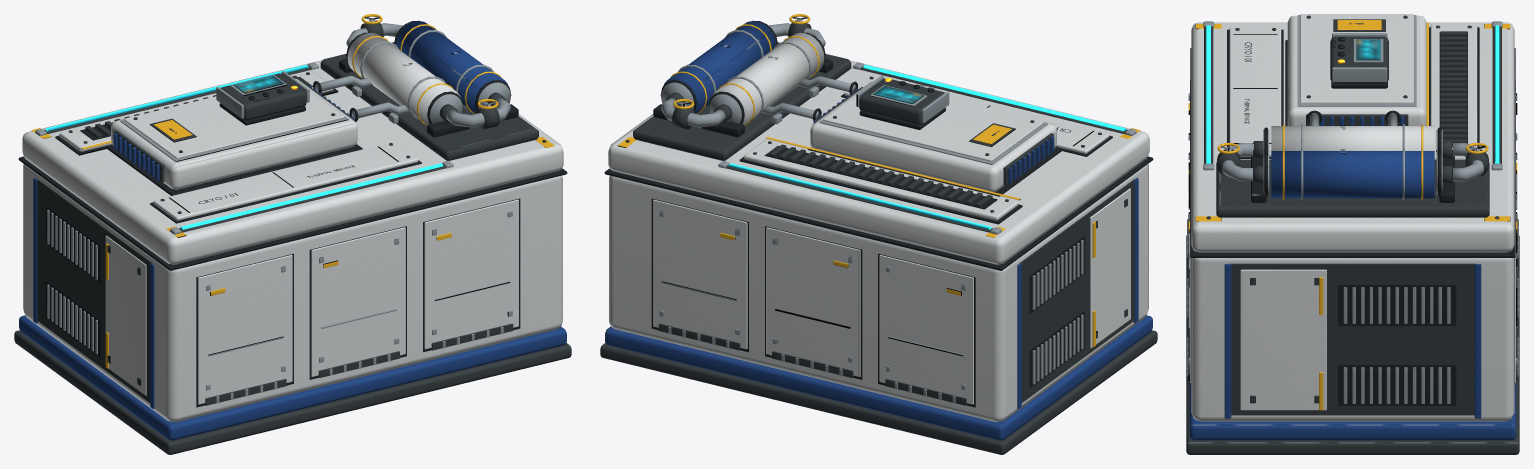
Rendered from 21_structural_thermal_island_6x4.gltf.
3 renders of one model, left to right at view 1: azimuth 30°, elevation 25°; view 2: azimuth 150°, elevation 25°; view 3: azimuth 270°, elevation 25°, orthographic. The views are drawn at different scales.
Parts seen in each view (by area): view 1: Cryo_Thermal_Island_LOD0; view 2: Cryo_Thermal_Island_LOD0; view 3: Cryo_Thermal_Island_LOD0.
Part boxes in pixels (x1,y1,x2,y2): Cryo_Thermal_Island_LOD0: (14, 14, 571, 454); Cryo_Thermal_Island_LOD0: (600, 14, 1157, 454); Cryo_Thermal_Island_LOD0: (1186, 14, 1519, 454).
Bounding box in the file's own units: 6 × 3.81 × 4.
Materials: 1 (1 with a texture image).
